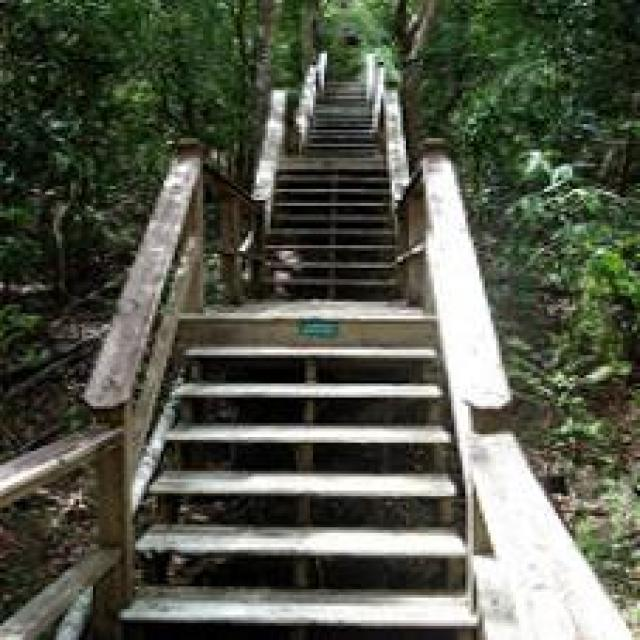Stair Up: (120, 316, 484, 638), (264, 162, 398, 299)
